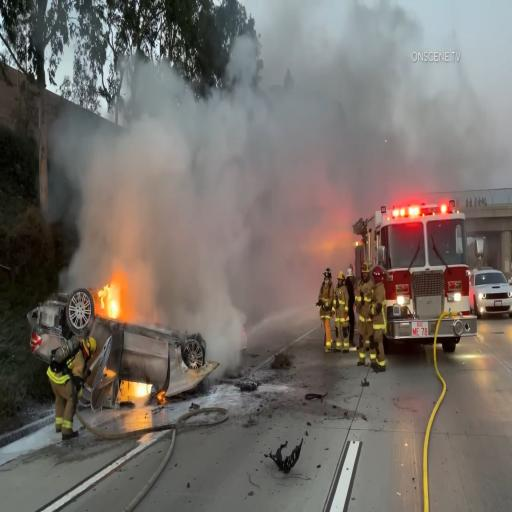fire: (98, 276, 124, 317), (110, 376, 142, 399)
smoke: (167, 106, 290, 354), (212, 25, 380, 204), (49, 80, 169, 275), (381, 70, 473, 197)
